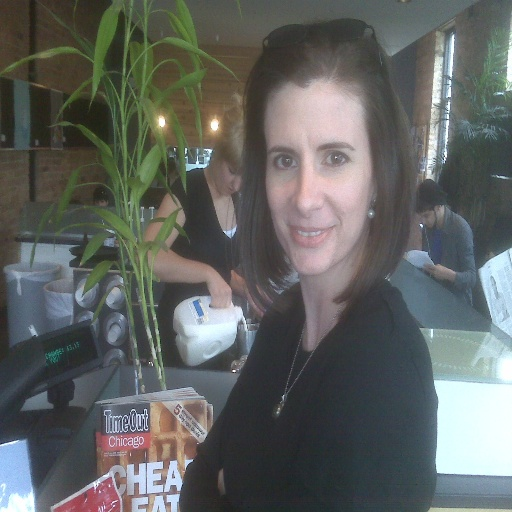hand: (168, 261, 233, 308), (245, 279, 272, 320), (420, 262, 449, 280)
